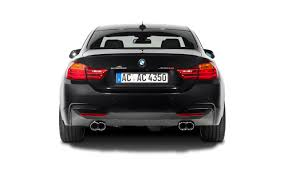car: (49, 16, 236, 154)
